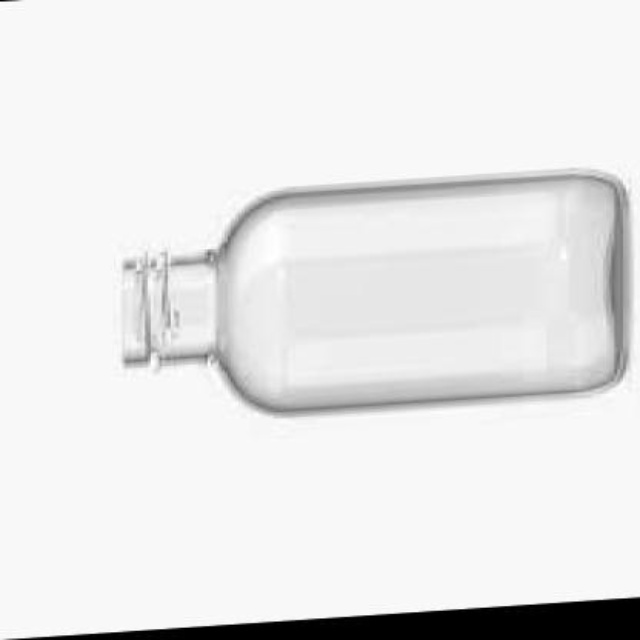trash: (120, 171, 626, 409)
